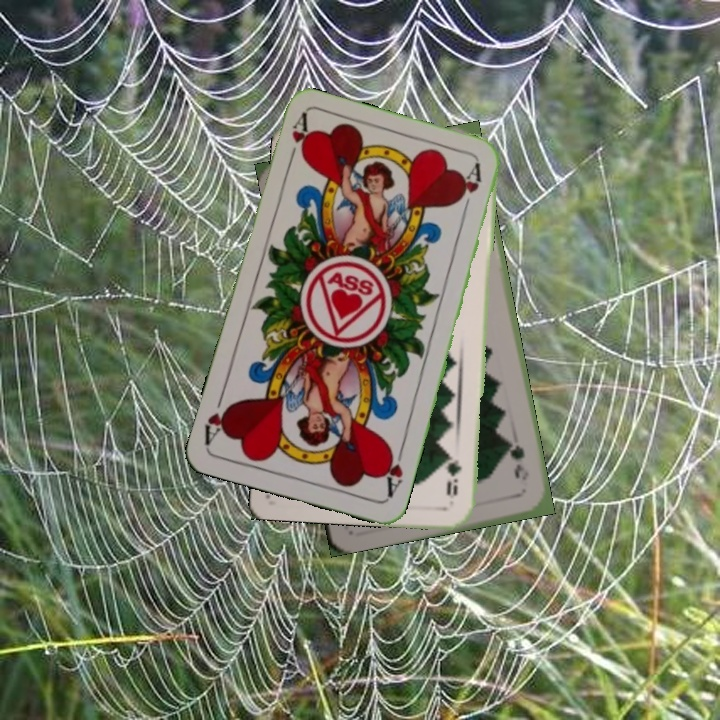G9: (505, 435, 532, 483), (443, 448, 464, 499)
HA: (378, 442, 407, 500), (283, 111, 312, 169)
